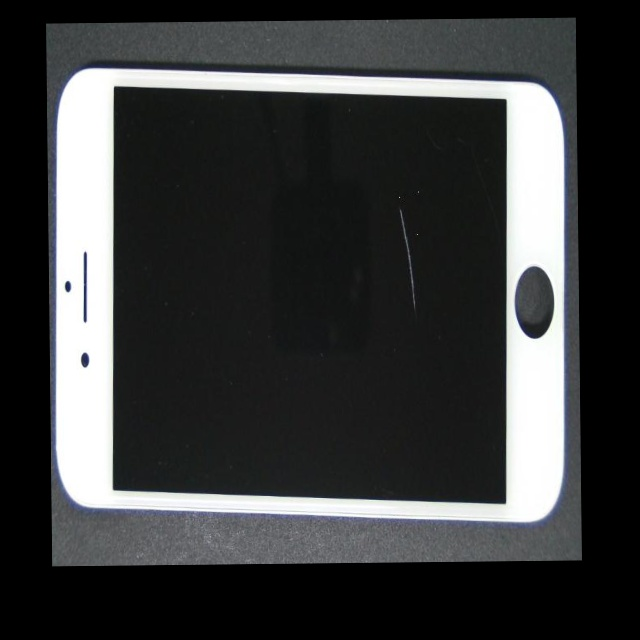scratch: (231, 175, 581, 494)
